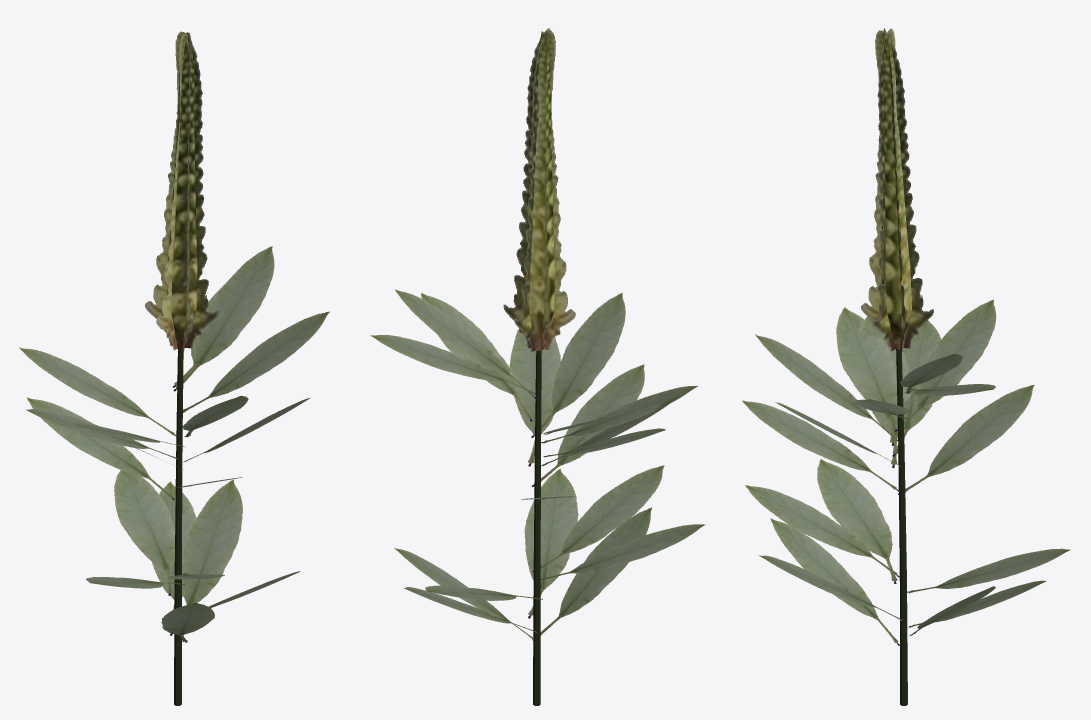
Rendered from category_mesh_flower_4.glb.
3 renders of one model, left to right at view 1: azimuth 30°, elevation 25°; view 2: azimuth 150°, elevation 25°; view 3: azimuth 270°, elevation 25°, orthographic.
Parts seen in each view (by area): view 1: category_mesh_flower_4; view 2: category_mesh_flower_4; view 3: category_mesh_flower_4.
Part boxes in pixels (x1,y1,x2,y2): category_mesh_flower_4: (19, 31, 329, 705); category_mesh_flower_4: (370, 28, 705, 705); category_mesh_flower_4: (742, 28, 1070, 705).
Bounding box in the file's own units: 0.2784 × 0.6339 × 0.29.
Materials: 1 (1 with a texture image).
